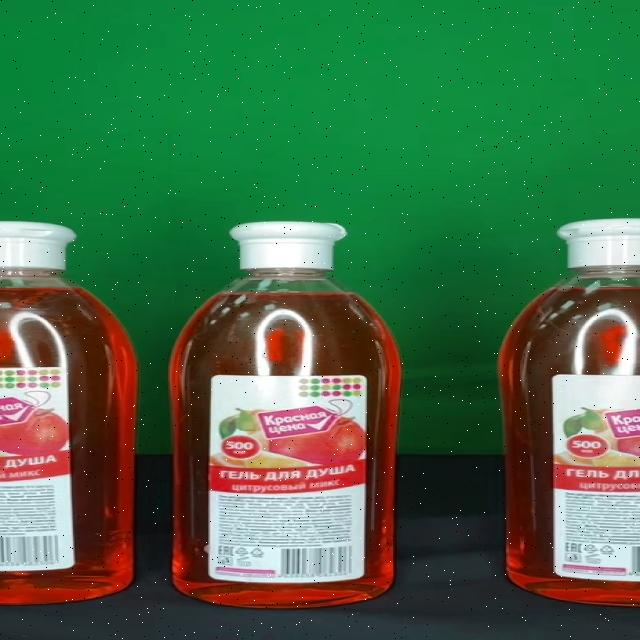Bottle: (167, 222, 403, 608)
Cap: (230, 222, 348, 271)
